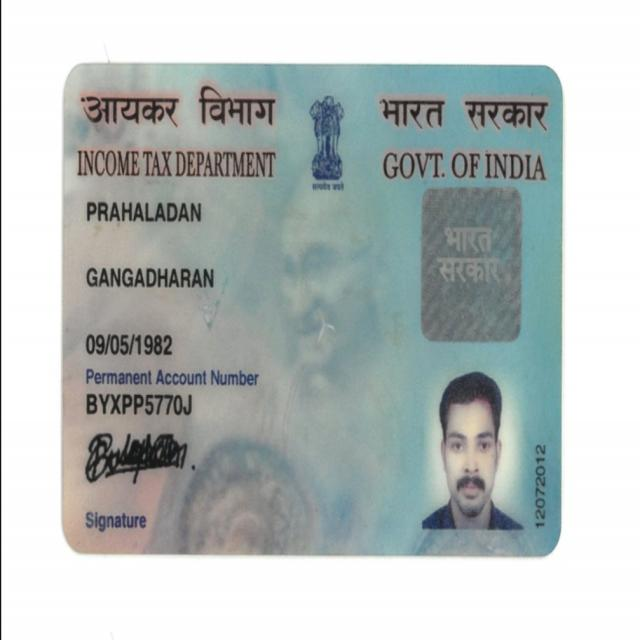pan_card: (65, 67, 560, 551)
